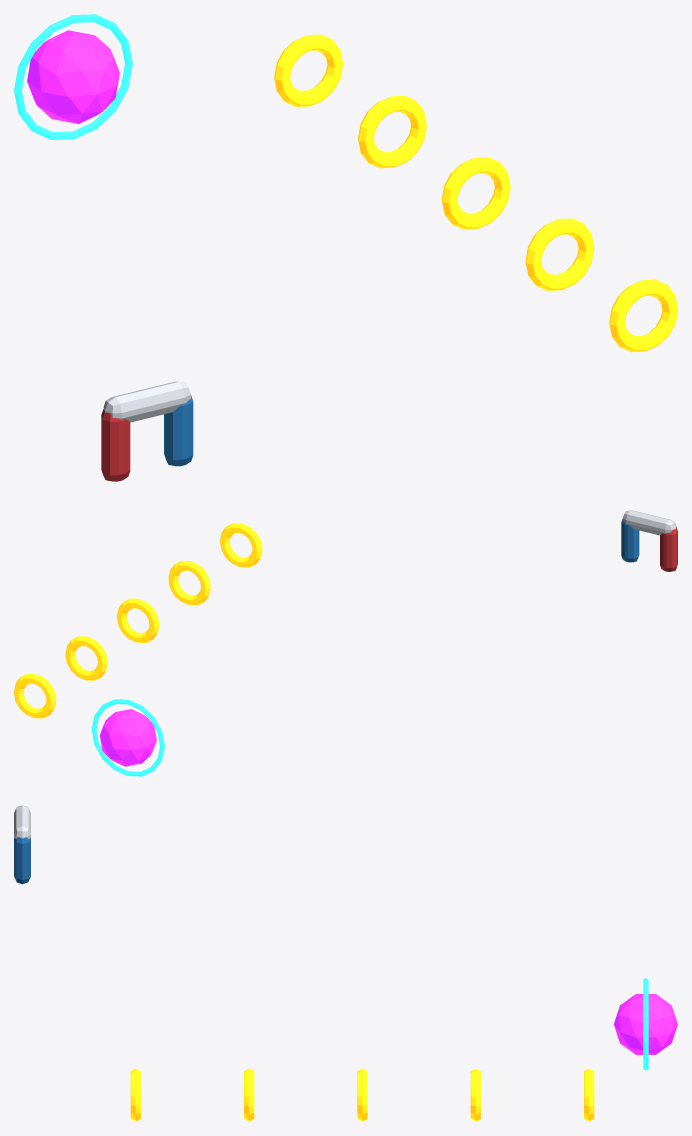
File: 04_PICKUPS.fbx
3 views of the same model, one above another, from view 1: azimuth 30°, elevation 25°; view 2: azimuth 150°, elevation 25°; view 3: azimuth 270°, elevation 25° (orthographic). The views are drawn at different scales.
Parts seen in each view (by area): view 1: Powerup_Shield, Powerup_ShieldRing, Pickup_Coin_2, Pickup_Coin_3, Pickup_Coin_5, Pickup_Coin_1, Pickup_Coin_4, Magnet_Top, Magnet_Left, Magnet_Right; view 2: Powerup_Shield, Powerup_ShieldRing, Pickup_Coin_4, Pickup_Coin_2, Pickup_Coin_3, Pickup_Coin_5, Pickup_Coin_1, Magnet_Top, Magnet_Left, Magnet_Right; view 3: Powerup_Shield, Magnet_Right, Pickup_Coin_1, Pickup_Coin_2, Pickup_Coin_3, Pickup_Coin_5, Pickup_Coin_4, Powerup_ShieldRing, Magnet_Top.
Part boxes in pixels (bbox=[...]): Powerup_Shield: bbox=[27, 30, 119, 123]; Powerup_ShieldRing: bbox=[14, 14, 132, 139]; Pickup_Coin_2: bbox=[525, 218, 594, 290]; Pickup_Coin_3: bbox=[442, 157, 510, 229]; Pickup_Coin_5: bbox=[274, 34, 342, 106]; Pickup_Coin_1: bbox=[609, 279, 677, 352]; Pickup_Coin_4: bbox=[358, 96, 426, 168]; Magnet_Top: bbox=[103, 381, 190, 422]; Magnet_Left: bbox=[101, 409, 130, 481]; Magnet_Right: bbox=[164, 395, 193, 466]; Powerup_Shield: bbox=[100, 709, 156, 766]; Powerup_ShieldRing: bbox=[91, 699, 164, 776]; Pickup_Coin_4: bbox=[65, 636, 107, 680]; Pickup_Coin_2: bbox=[168, 560, 210, 605]; Pickup_Coin_3: bbox=[117, 598, 159, 642]; Pickup_Coin_5: bbox=[14, 674, 56, 718]; Pickup_Coin_1: bbox=[220, 523, 262, 567]; Magnet_Top: bbox=[622, 510, 676, 535]; Magnet_Left: bbox=[660, 527, 677, 571]; Magnet_Right: bbox=[621, 519, 639, 562]; Powerup_Shield: bbox=[614, 994, 677, 1054]; Magnet_Right: bbox=[14, 837, 30, 884]; Pickup_Coin_1: bbox=[130, 1068, 140, 1121]; Pickup_Coin_2: bbox=[244, 1068, 254, 1121]; Pickup_Coin_3: bbox=[357, 1068, 367, 1121]; Pickup_Coin_5: bbox=[584, 1068, 594, 1121]; Pickup_Coin_4: bbox=[470, 1068, 480, 1121]; Powerup_ShieldRing: bbox=[643, 978, 648, 1070]; Magnet_Top: bbox=[14, 805, 30, 839].
Bounding box in the file's own units: 13.63 × 3.58 × 17.57.
